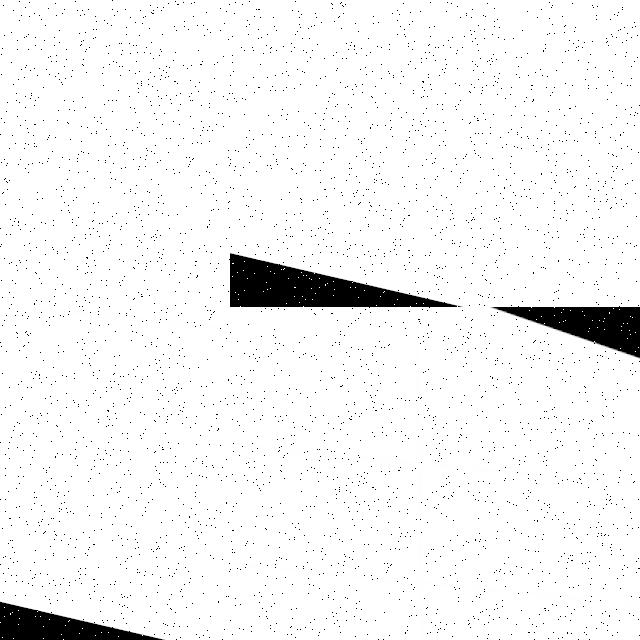drone: (230, 307, 640, 640), (0, 307, 230, 640)
